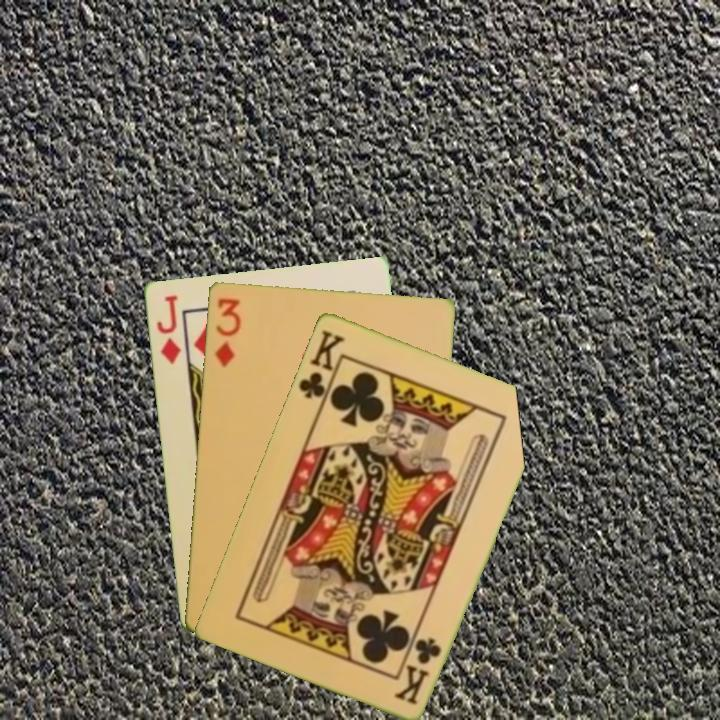3d: (211, 294, 243, 370)
Jd: (152, 291, 183, 367)
Kc: (294, 325, 347, 409), (392, 633, 445, 707)
